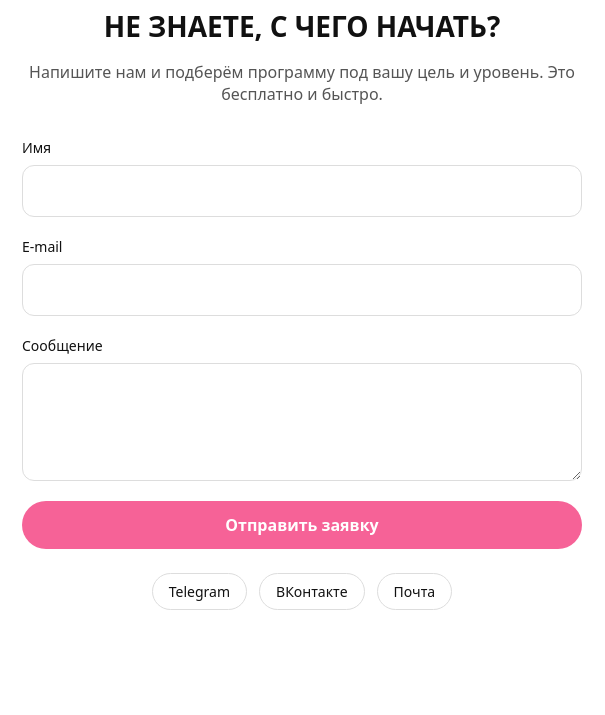
it: ContactForm › submits valid form
The image size is (605, 715).
Type "Мария" into the field labelled "Имя" at (302, 191), box [22,165,582,217]
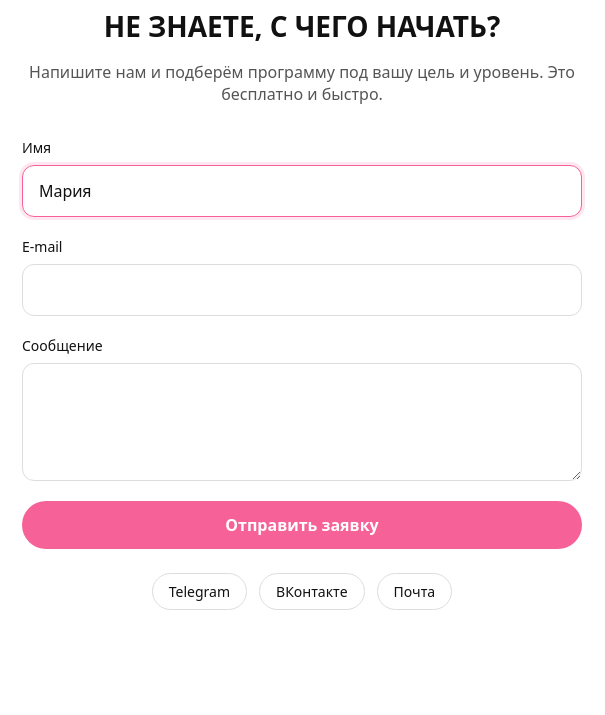
Type "maria@example.com" into the field labelled "E-mail" at (302, 290), box [22,264,582,316]
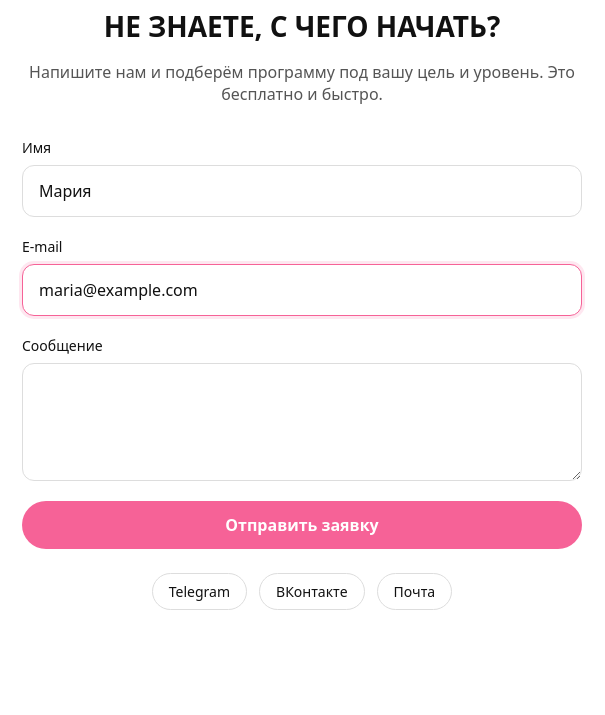
Type "Хочу подобрать программу для домашних тренировок" into the text box labelled "Сообщение" at (302, 422), box [22,363,582,481]
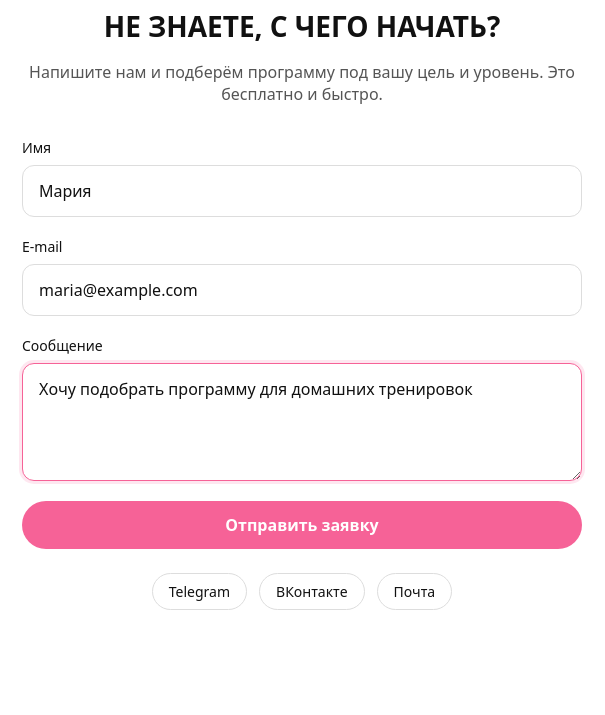
Click the button "Отправить заявку" at (302, 525), box [22,501,582,549]
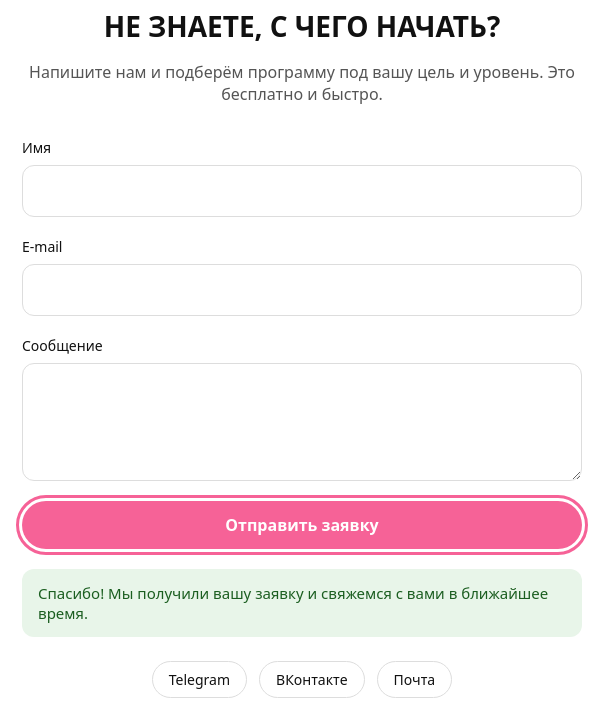
expect the message shows "Спасибо": met, box [38,583,548,623]
